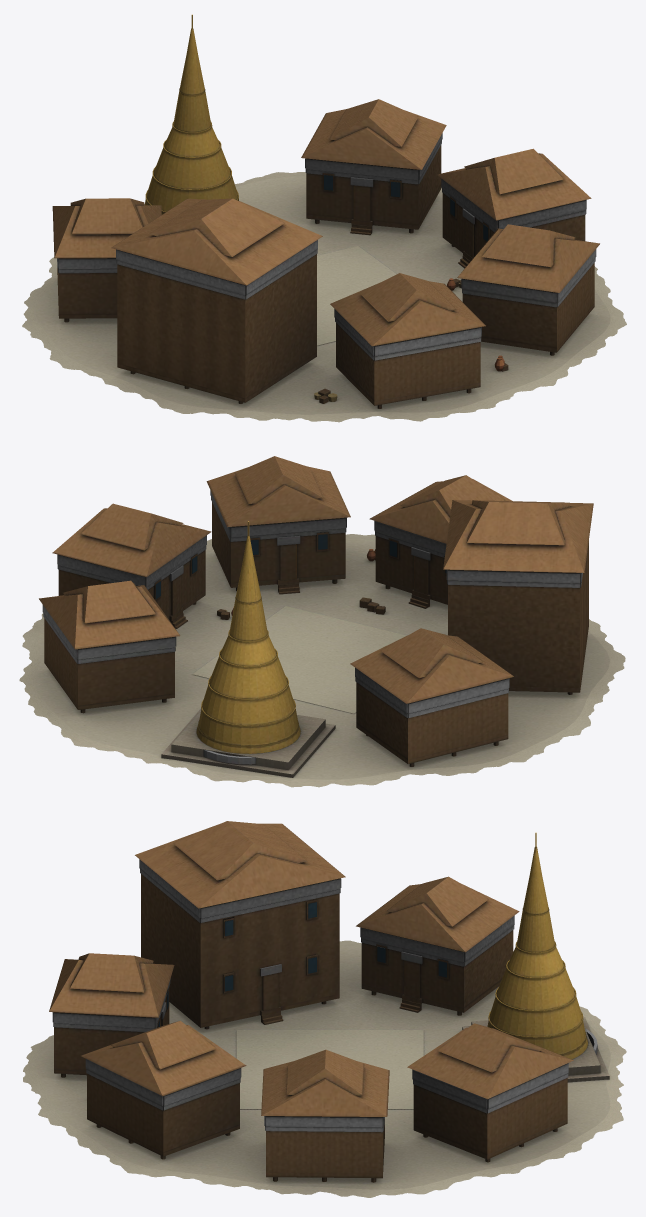
The model's file is kingdoms-town-small-b-monsoon-60111e2c.glb.
The picture shows the model from 3 angles, top to bottom: view 1: azimuth 30°, elevation 25°; view 2: azimuth 150°, elevation 25°; view 3: azimuth 270°, elevation 25°; orthographic projection.
Parts seen in each view (by area): view 1: LOD0; view 2: LOD0; view 3: LOD0.
Part boxes in pixels (box(x1,y1,x2,y2)): LOD0: box(22, 14, 626, 422); LOD0: box(19, 456, 625, 787); LOD0: box(23, 821, 626, 1197).
Size of what is drawn, in the model's own units: 3.98 by 1.6 by 3.96.
Materials: 3 (3 with a texture image).
